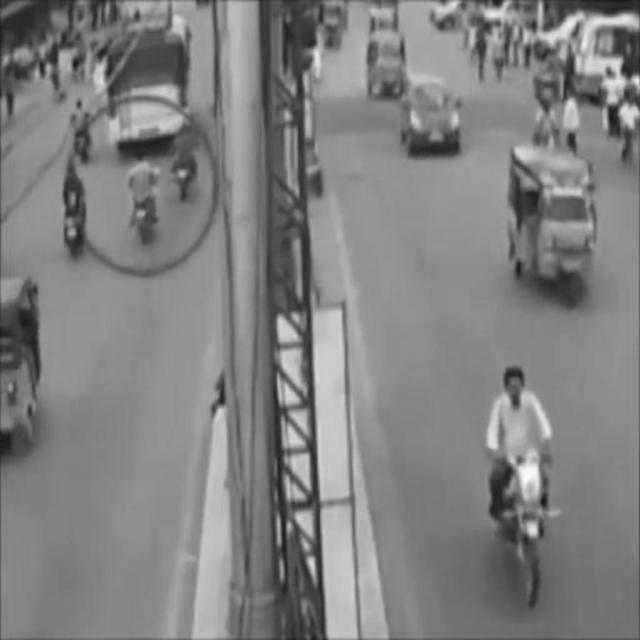person: (561, 86, 581, 154)
vehicle: (489, 366, 556, 600), (507, 145, 598, 309), (114, 12, 188, 153), (400, 72, 460, 155), (128, 147, 158, 243), (369, 29, 406, 100), (62, 157, 84, 259), (174, 124, 200, 202), (66, 94, 93, 158)
